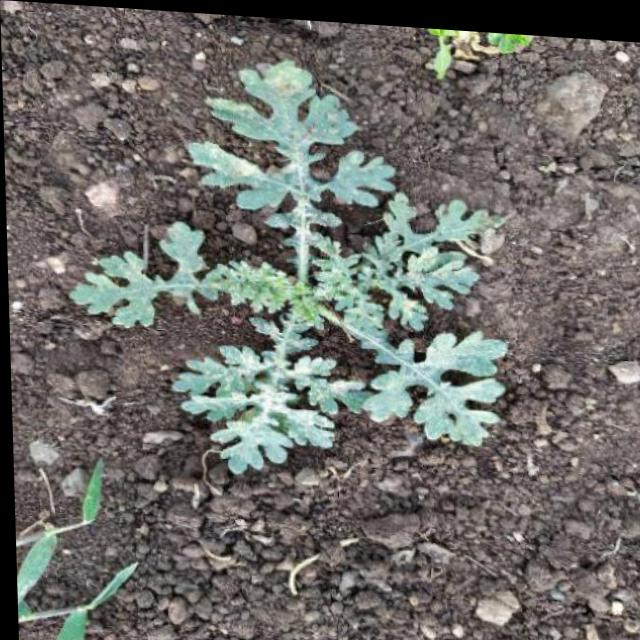weed: (28, 41, 509, 485)
